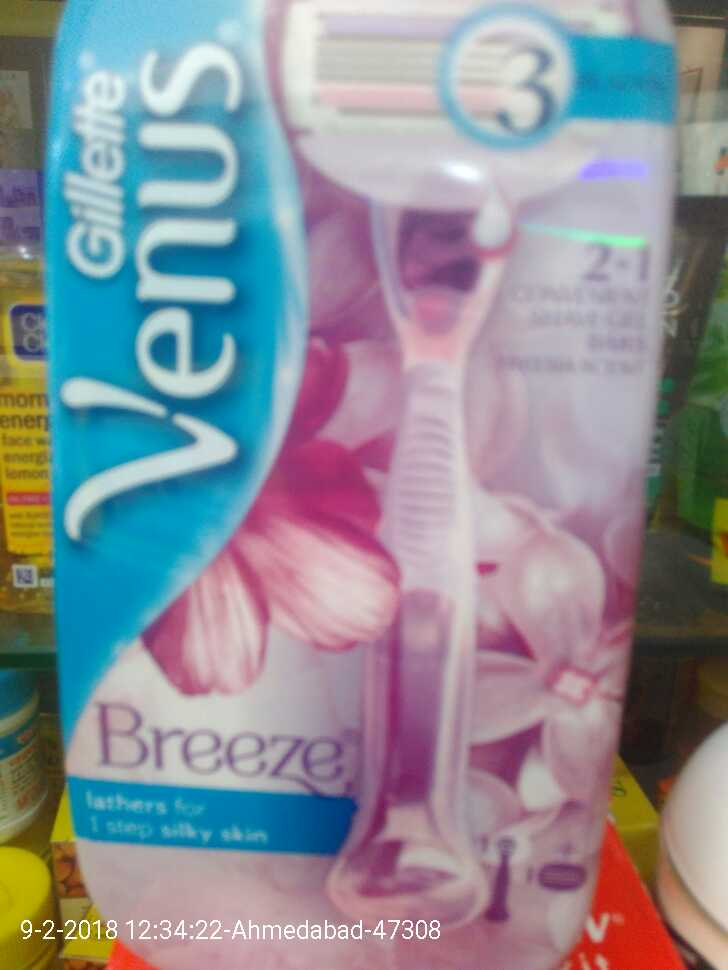venus: (43, 1, 668, 970)
